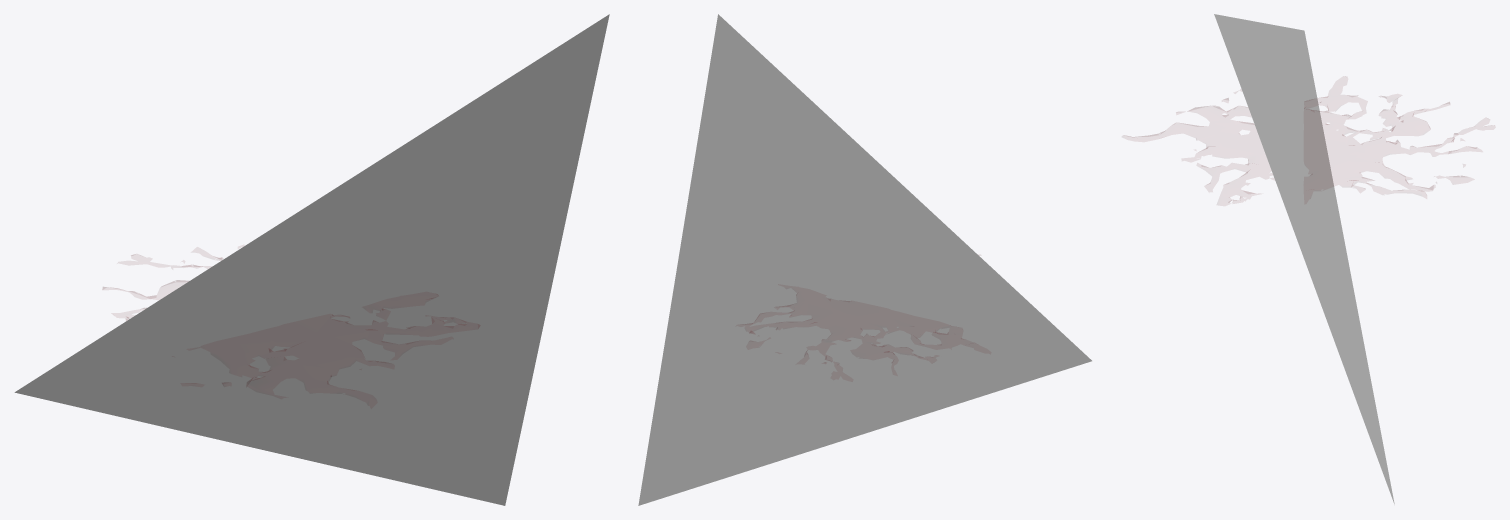
File: Bloodstain.fbx
3 views of the same model, side by side, from view 1: azimuth 30°, elevation 25°; view 2: azimuth 150°, elevation 25°; view 3: azimuth 270°, elevation 25° (orthographic). The views are drawn at different scales.
Visible parts, largest first — view 1: Cube; view 2: Cube; view 3: Cube, Bloodstain.
Part boxes in pixels (x1,y1,x2,y2): Cube: (14,14,609,505); Cube: (638,14,1091,505); Cube: (1214,14,1394,504); Bloodstain: (1127,95,1476,202).
Size of the model in its own units: 200 by 200 by 138.
